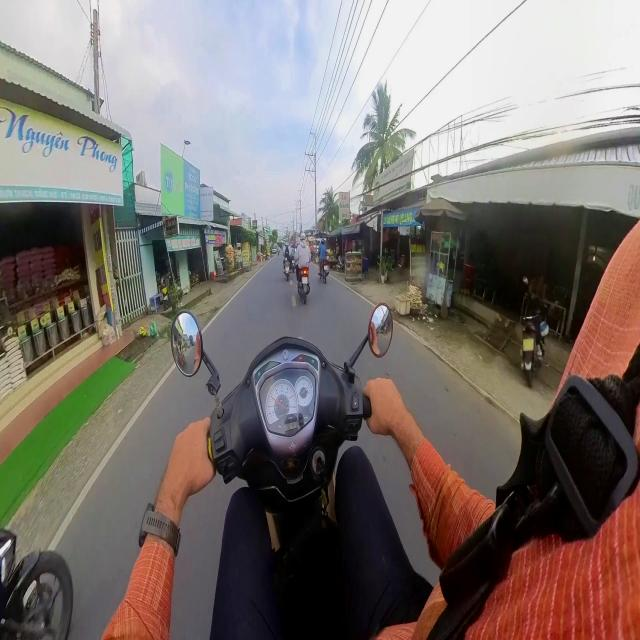motorcycle: (171, 304, 392, 637), (0, 530, 72, 639), (521, 293, 548, 387), (298, 267, 309, 303), (319, 259, 329, 283), (284, 259, 290, 281)
